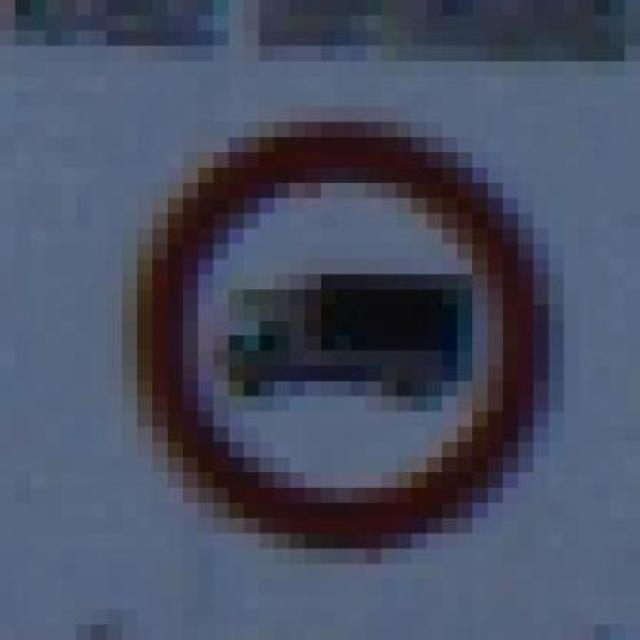Truck traffic is prohibited: (76, 115, 579, 557)
